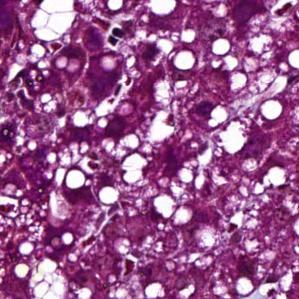ballooning: (26, 0, 81, 45)
